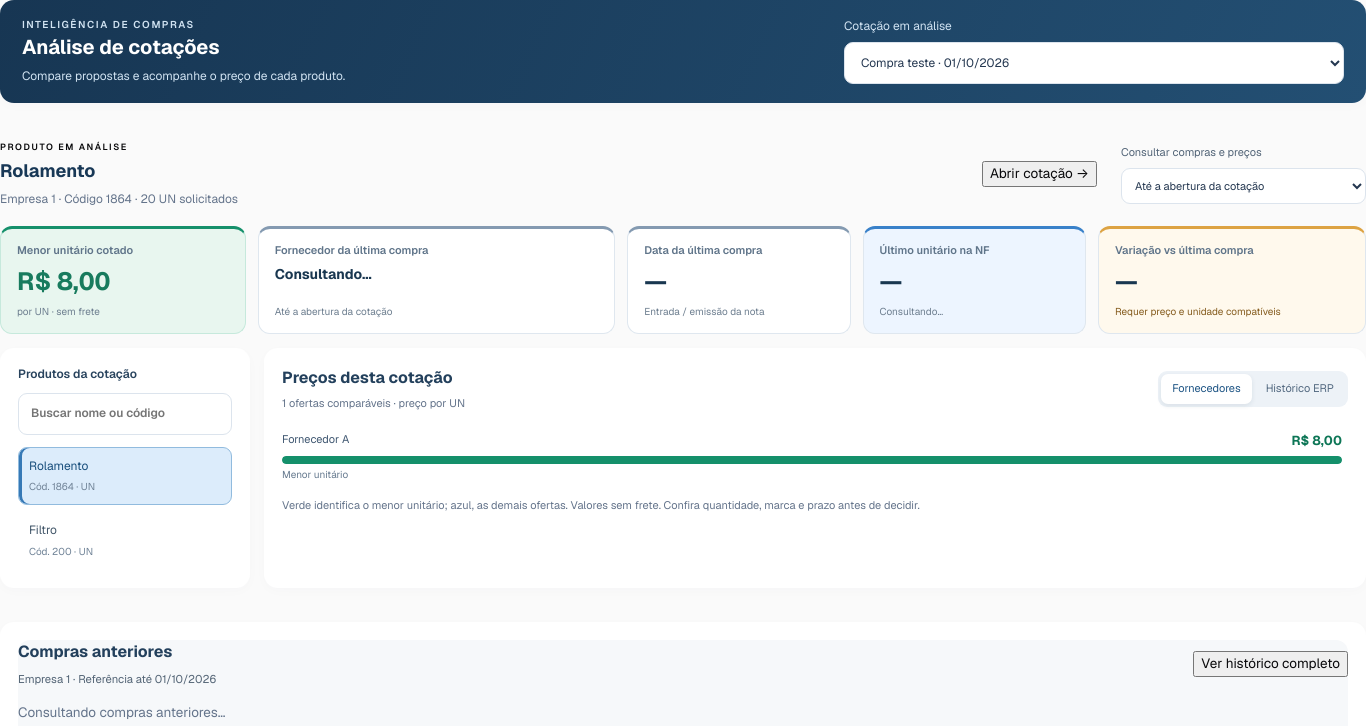
Test case: troca de produto não reaproveita tendência atrasada do produto anterior
Click the button "Filtro Cód. 200 · UN": (125, 541) [18,511,232,570]
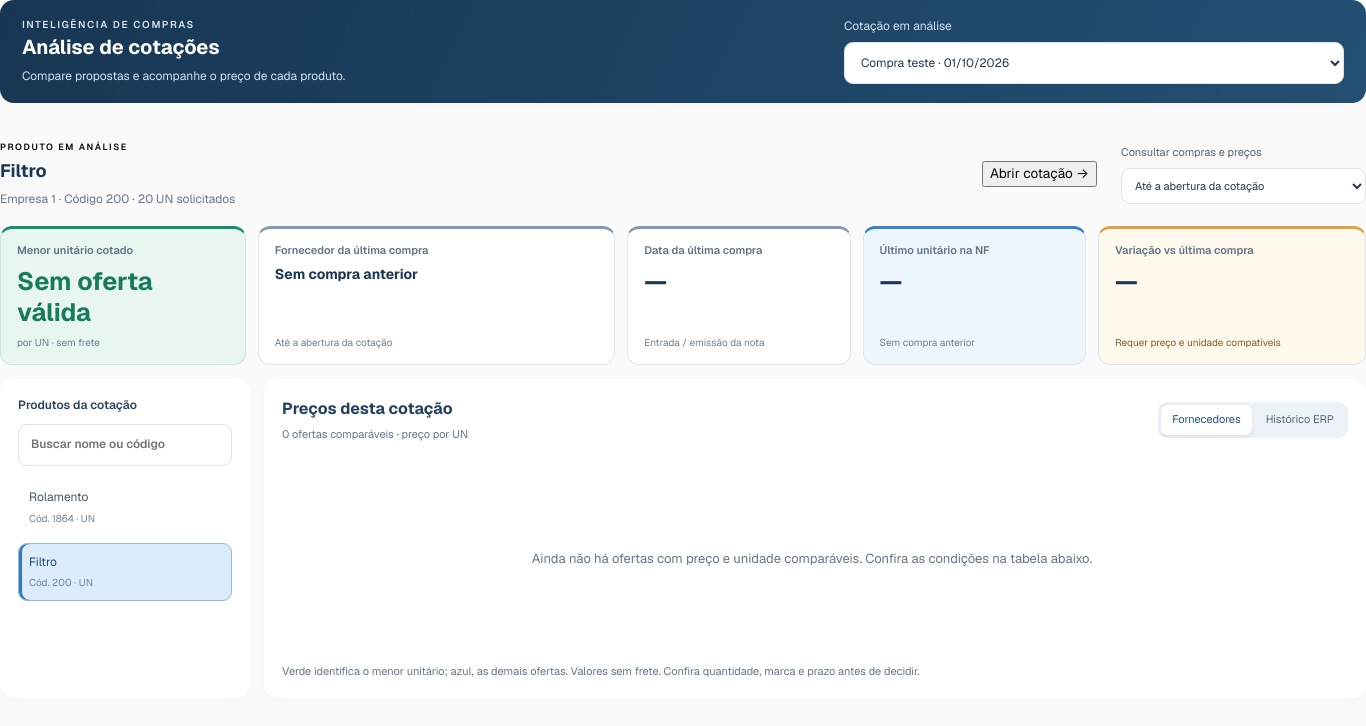
Click the button "Histórico ERP": (1300, 420) [1255,405,1345,435]
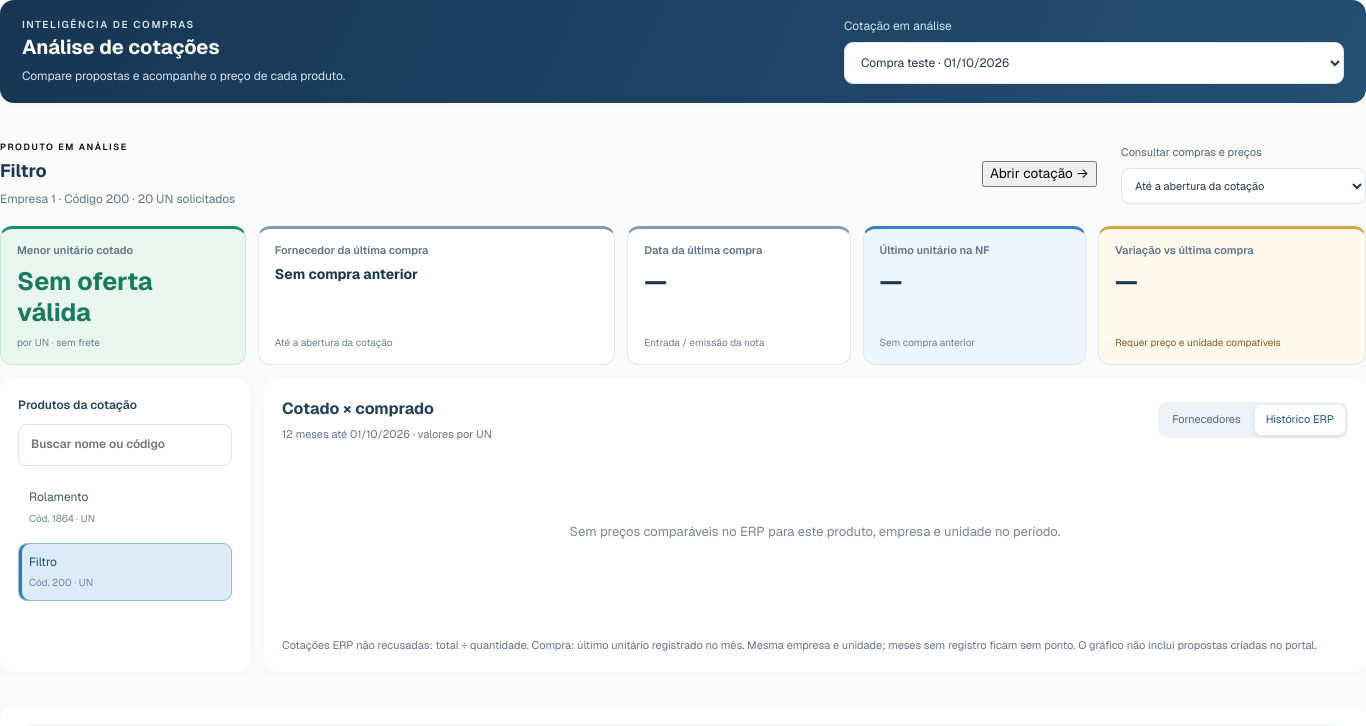
Expected: the text "Sem preços comparáveis" is shown, [570,523,1060,540]
